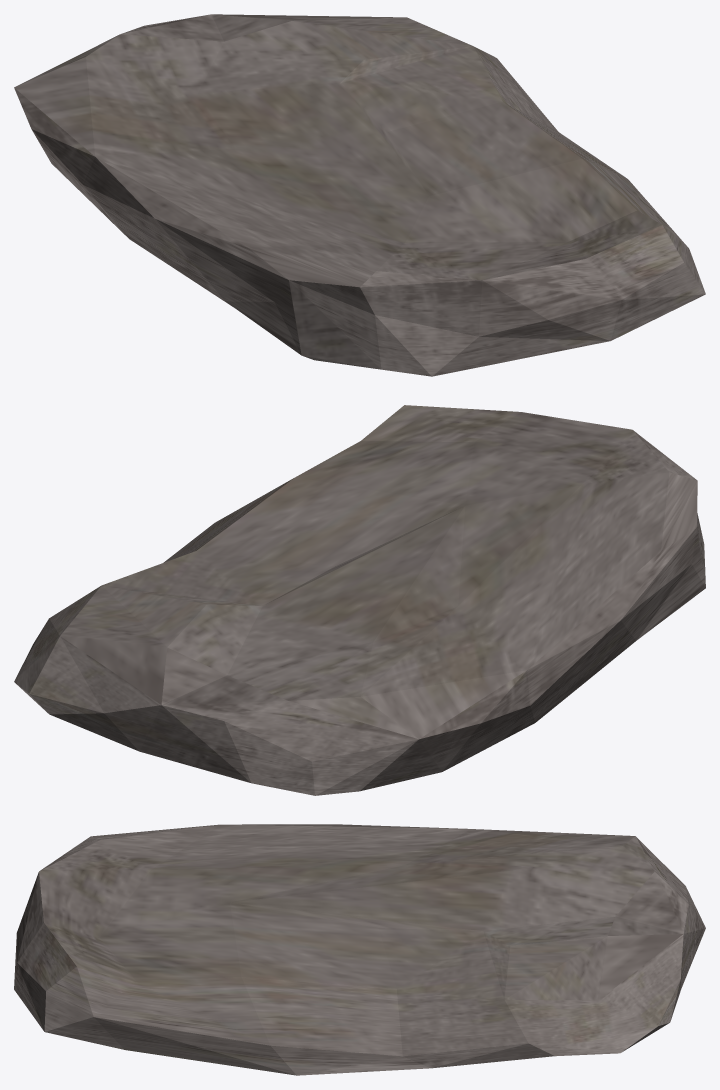
The model's file is rock_02.fbx.
The picture shows the model from 3 angles, top to bottom: view 1: azimuth 30°, elevation 25°; view 2: azimuth 150°, elevation 25°; view 3: azimuth 270°, elevation 25°; orthographic projection. The views are drawn at different scales.
Visible parts, largest first — view 1: Cube; view 2: Cube; view 3: Cube.
Part boxes in pixels (x1,y1,x2,y2): Cube: (14, 14, 705, 376); Cube: (14, 405, 705, 795); Cube: (14, 824, 705, 1075).
Size of the model in its own units: 222 by 44.35 by 335.
